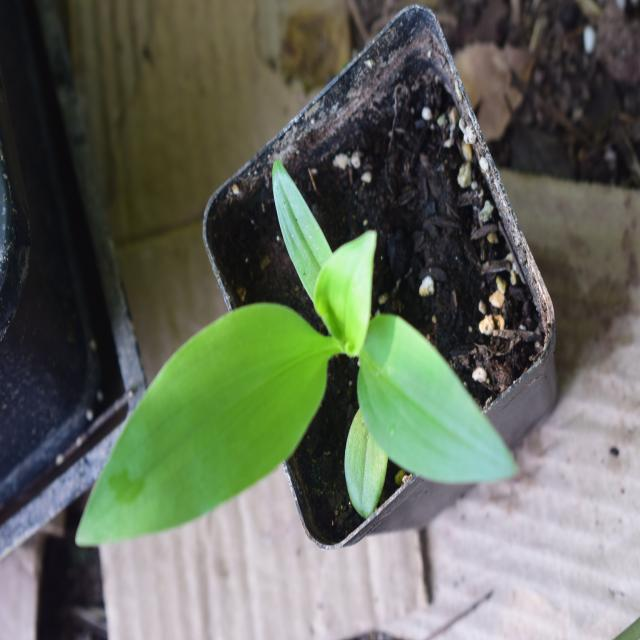Common Dayflower: (61, 204, 532, 539)
